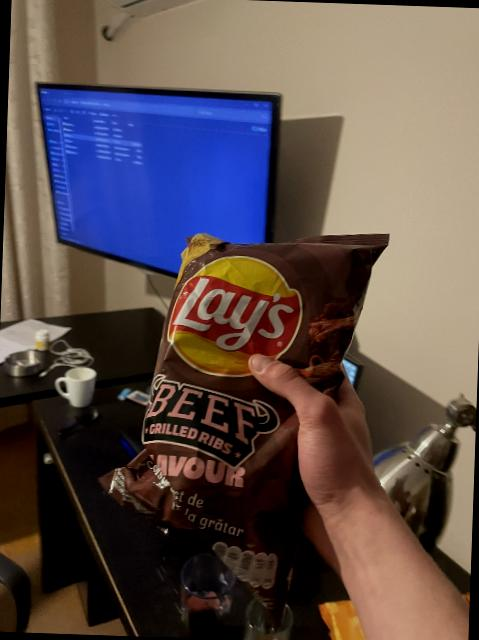Lays Beef Grilled Ribs 125g: (91, 222, 392, 628)
